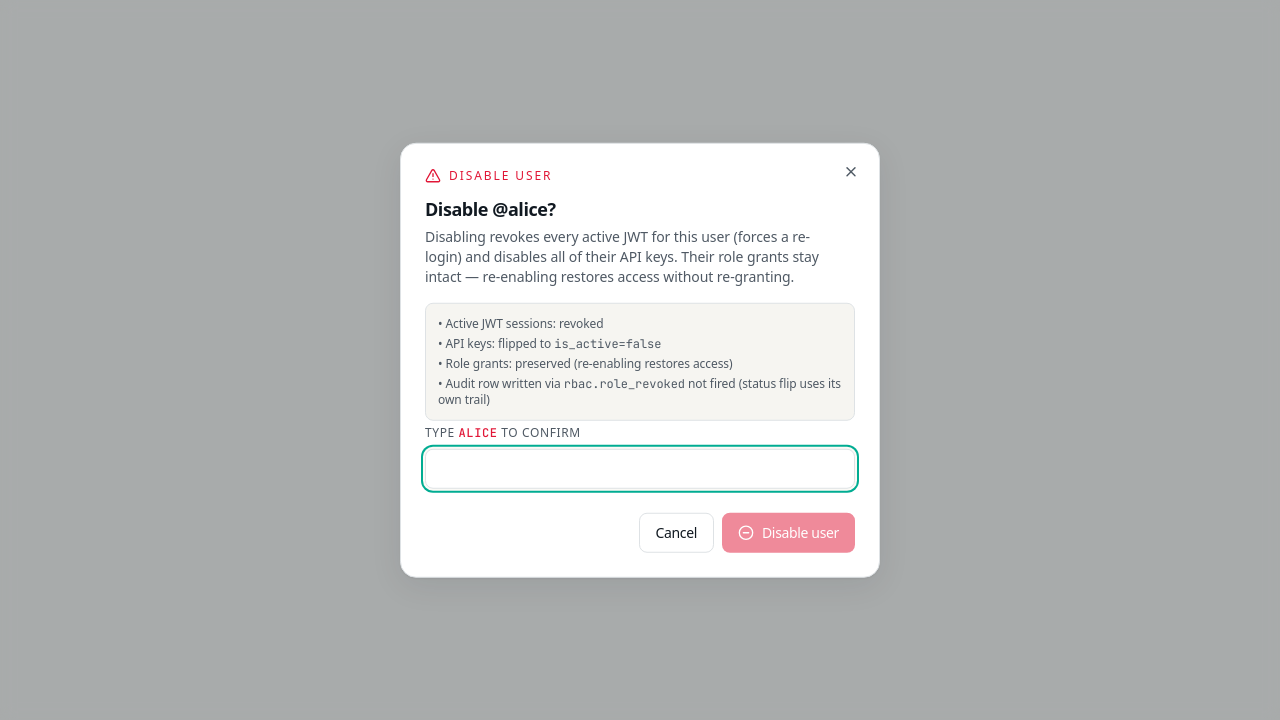
DisableUserDialog confirm gate › exact username enables the disable button
The width and height of the screenshot is (1280, 720).
In the field labelled "Type alice to confirm": (640, 468) [425, 448, 855, 488], type "alice"
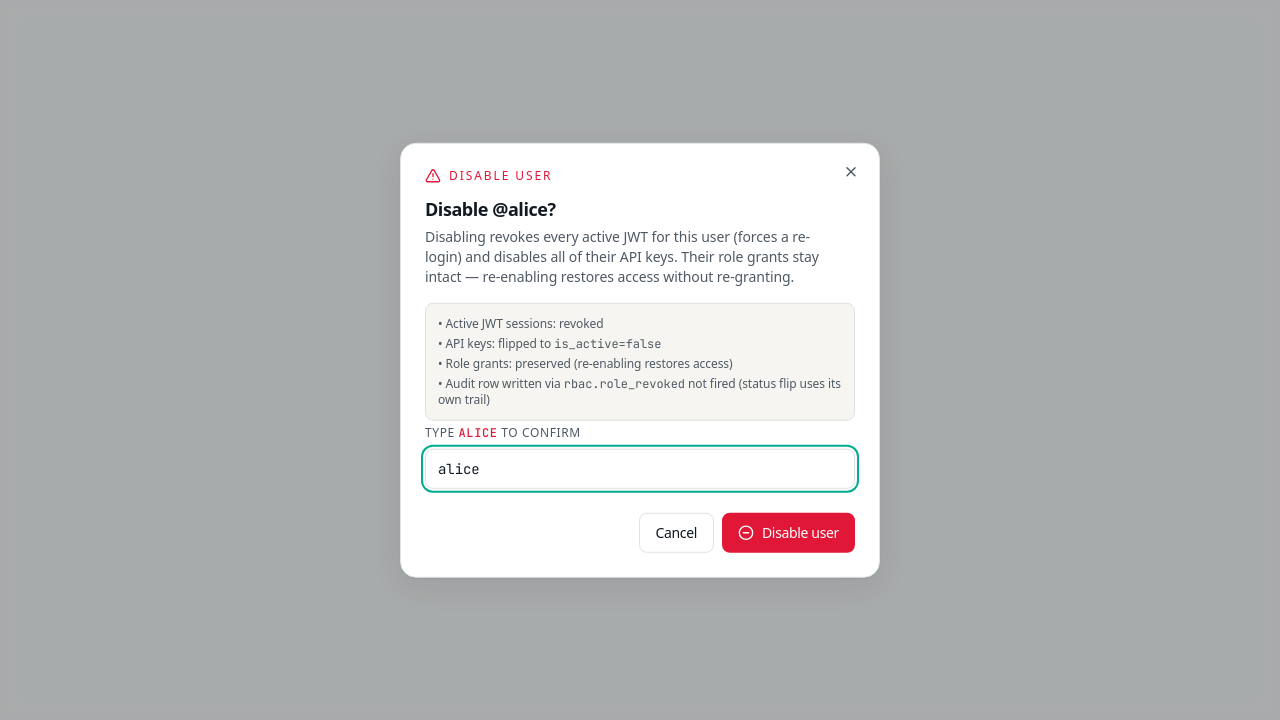
Expected: the button "Disable user" is enabled, [722, 512, 855, 552]
